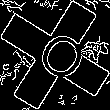O_SW: (23, 22, 87, 88)
